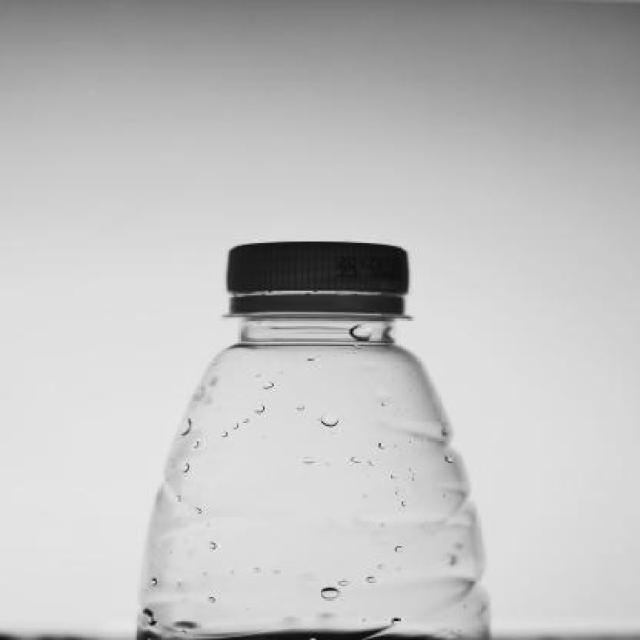bottle: (117, 201, 528, 640)
